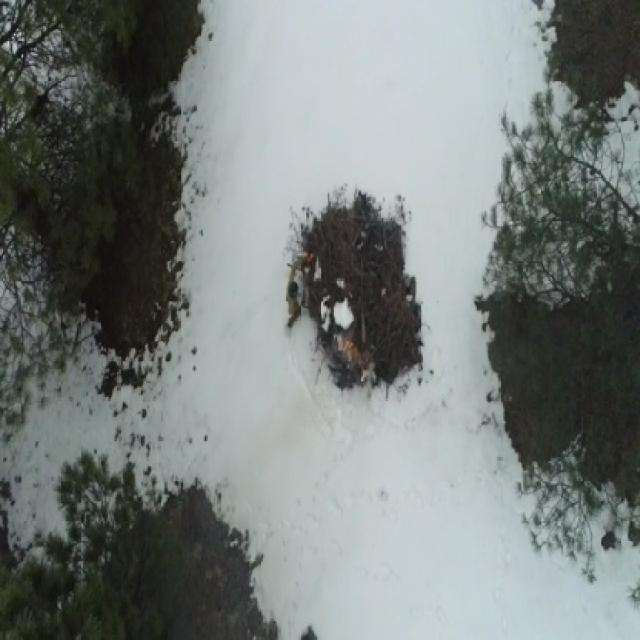Fire: (346, 340, 366, 371)
